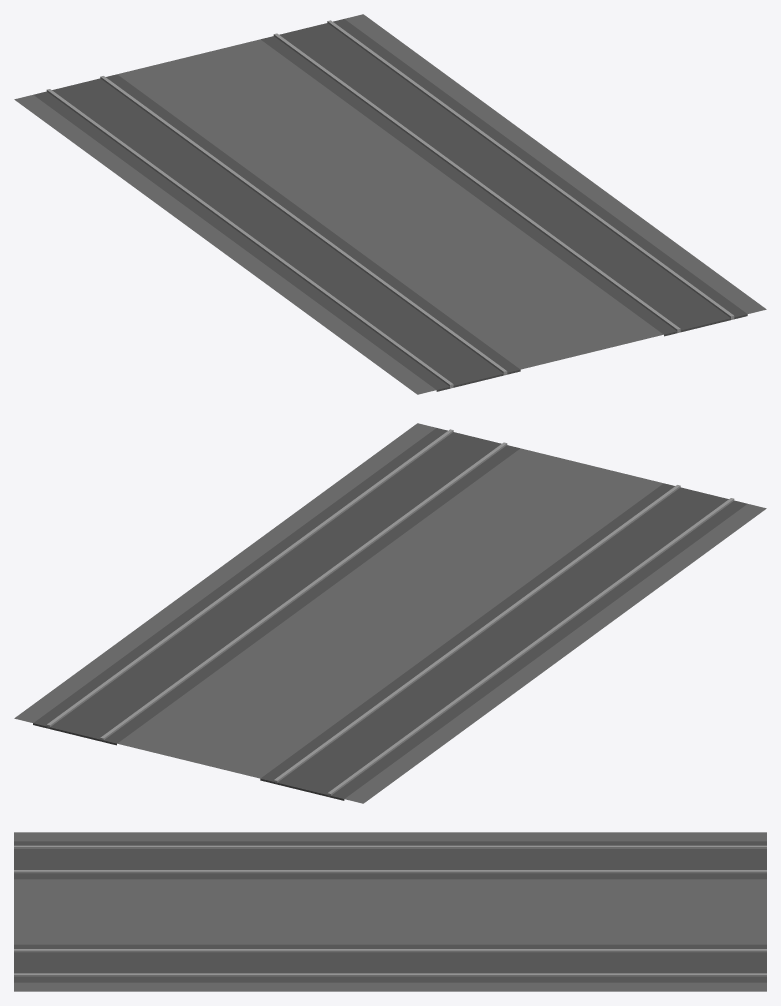
The model's file is SM_Floor_Metro_11.fbx.
3 renders of one model, top to bottom at view 1: azimuth 30°, elevation 25°; view 2: azimuth 150°, elevation 25°; view 3: azimuth 270°, elevation 25°, orthographic. The views are drawn at different scales.
Parts seen in each view (by area): view 1: SM_Floor_Metro_11; view 2: SM_Floor_Metro_11; view 3: SM_Floor_Metro_11.
Part boxes in pixels (bbox=[...]): SM_Floor_Metro_11: bbox=[14, 14, 766, 394]; SM_Floor_Metro_11: bbox=[14, 423, 766, 803]; SM_Floor_Metro_11: bbox=[14, 832, 766, 991].
Size of the model in its own units: 10 by 0.1 by 20.
